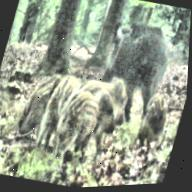boar: (88, 0, 181, 116), (47, 80, 125, 173), (7, 53, 68, 152), (71, 63, 141, 118), (38, 65, 85, 144), (137, 79, 181, 141)
